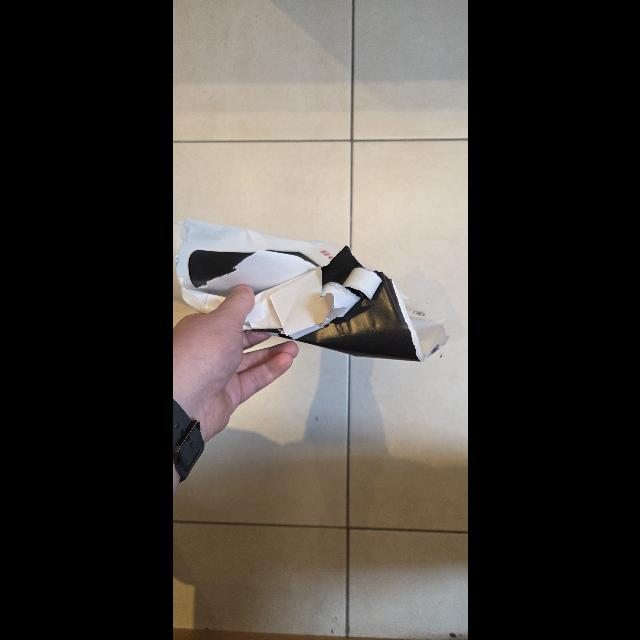Paper: (175, 214, 467, 364)
